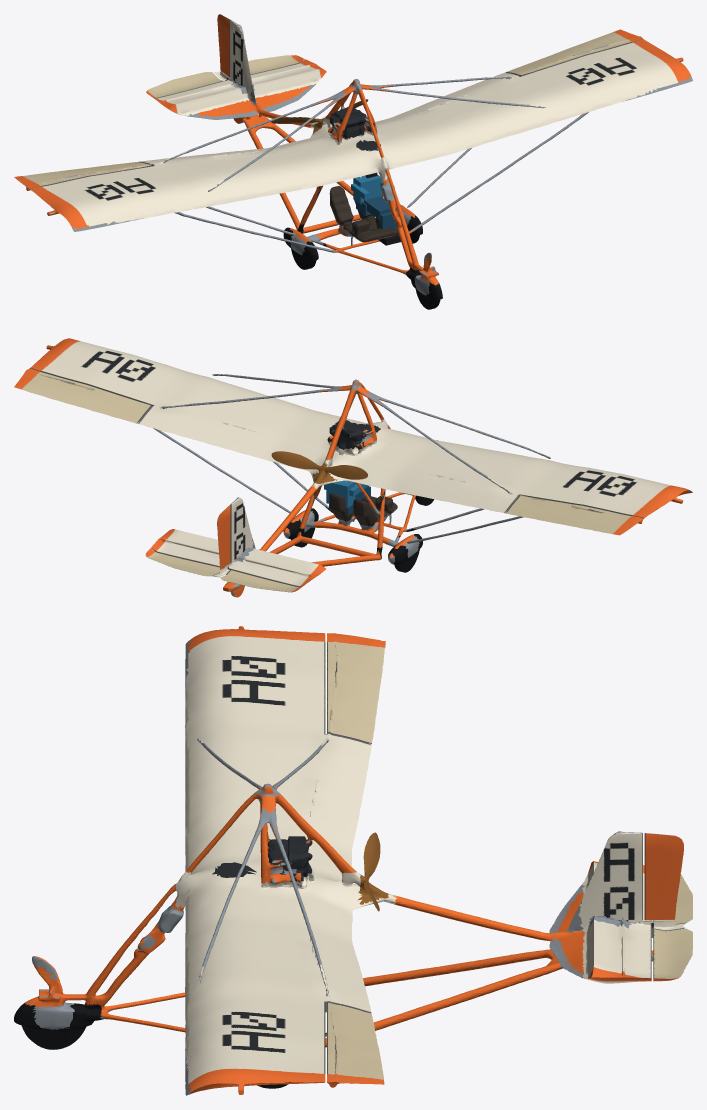
File: pf_aircraft_ultralight.glb
3 views of the same model, one above another, from view 1: azimuth 30°, elevation 25°; view 2: azimuth 150°, elevation 25°; view 3: azimuth 270°, elevation 25° (orthographic). The views are drawn at different scales.
Parts seen in each view (by area): view 1: a0_body, elevator, aileron_L, pilot, aileron_R, rudder; view 2: a0_body, aileron_L, aileron_R, elevator, propeller, pilot, rudder; view 3: a0_body, aileron_R, aileron_L, rudder, elevator, propeller.
Part boxes in pixels (box(x1,y1,x2,y2)): a0_body: box(30, 20, 692, 309); elevator: box(146, 55, 303, 97); aileron_L: box(506, 29, 643, 76); pilot: box(351, 172, 400, 245); aileron_R: box(14, 162, 152, 190); rudder: box(217, 14, 230, 77); a0_body: box(29, 338, 692, 597); aileron_L: box(14, 368, 151, 423); aileron_R: box(506, 495, 643, 535); elevator: box(145, 548, 303, 592); propeller: box(271, 451, 367, 483); pilot: box(324, 480, 370, 515); rudder: box(217, 505, 230, 569); a0_body: box(14, 626, 685, 1095); aileron_R: box(327, 633, 385, 743); aileron_L: box(327, 1002, 384, 1087); rudder: box(644, 833, 683, 920); elevator: box(653, 874, 692, 981); propeller: box(357, 832, 388, 911).
Size of the model in its own units: 1.9 by 0.5053 by 1.17.
8 materials, 1 textured.
